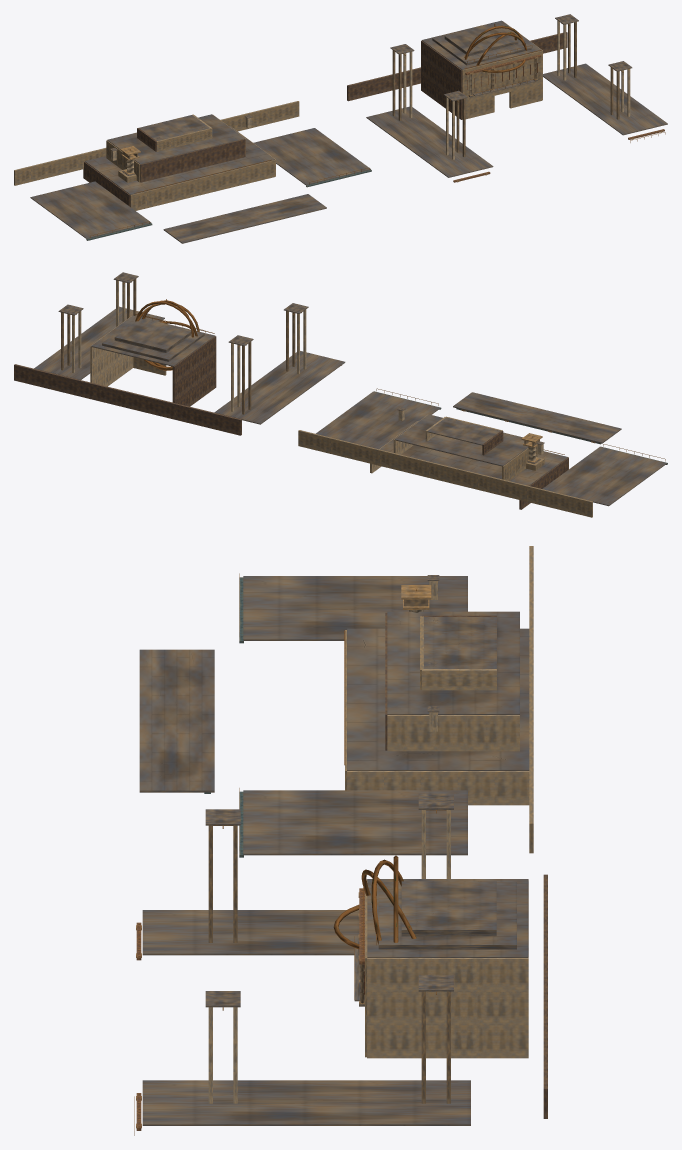
The model's file is kairou-v10.1-upper-lod0.raw.glb.
The picture shows the model from 3 angles, top to bottom: view 1: azimuth 30°, elevation 25°; view 2: azimuth 150°, elevation 25°; view 3: azimuth 270°, elevation 25°; orthographic projection. The views are drawn at different scales.
Visible parts, largest first — view 1: SM_Kairou_V10_1_MeridianSanctuary_Upper_LOD0_Dielectric, SM_Kairou_V10_1_WindcrownObservatory_Upper_LOD0_Dielectric, SM_Kairou_V10_1_WindcrownObservatory_Upper_LOD0_Metal; view 2: SM_Kairou_V10_1_MeridianSanctuary_Upper_LOD0_Dielectric, SM_Kairou_V10_1_WindcrownObservatory_Upper_LOD0_Dielectric, SM_Kairou_V10_1_WindcrownObservatory_Upper_LOD0_Metal; view 3: SM_Kairou_V10_1_MeridianSanctuary_Upper_LOD0_Dielectric, SM_Kairou_V10_1_WindcrownObservatory_Upper_LOD0_Dielectric, SM_Kairou_V10_1_WindcrownObservatory_Upper_LOD0_Metal.
Part boxes in pixels (box(x1,y1,x2,y2)): SM_Kairou_V10_1_MeridianSanctuary_Upper_LOD0_Dielectric: box(14, 101, 371, 243); SM_Kairou_V10_1_WindcrownObservatory_Upper_LOD0_Dielectric: box(347, 14, 667, 182); SM_Kairou_V10_1_WindcrownObservatory_Upper_LOD0_Metal: box(397, 23, 665, 142); SM_Kairou_V10_1_MeridianSanctuary_Upper_LOD0_Dielectric: box(298, 391, 667, 517); SM_Kairou_V10_1_WindcrownObservatory_Upper_LOD0_Dielectric: box(14, 272, 345, 435); SM_Kairou_V10_1_WindcrownObservatory_Upper_LOD0_Metal: box(68, 282, 301, 370); SM_Kairou_V10_1_MeridianSanctuary_Upper_LOD0_Dielectric: box(139, 546, 533, 857); SM_Kairou_V10_1_WindcrownObservatory_Upper_LOD0_Dielectric: box(136, 793, 547, 1130); SM_Kairou_V10_1_WindcrownObservatory_Upper_LOD0_Metal: box(134, 810, 446, 1135).
Size of the model in its own units: 223 by 33.9 by 71.88.
2 materials, 2 textured.
